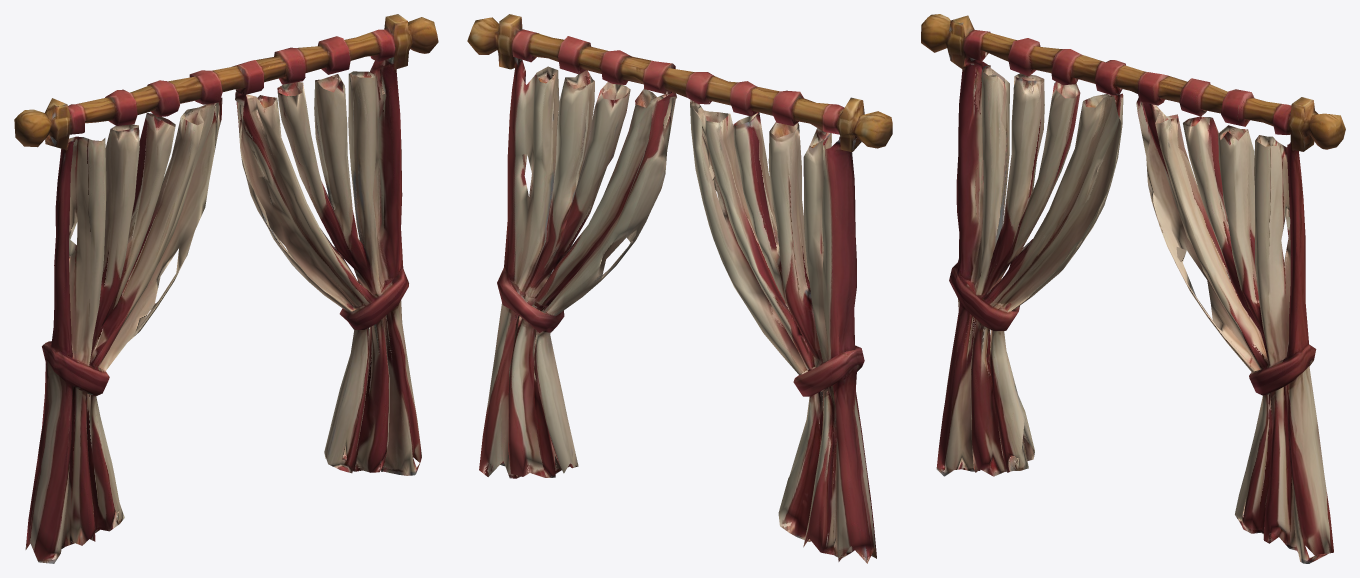
The model's file is SM_Env_Curtain.fbx.
The picture shows the model from 3 angles, left to right: view 1: azimuth 30°, elevation 25°; view 2: azimuth 150°, elevation 25°; view 3: azimuth 330°, elevation 25°; orthographic projection.
Parts seen in each view (by area): view 1: SM_Env_Curtain; view 2: SM_Env_Curtain; view 3: SM_Env_Curtain.
Boxes of the visible parts, box(x1,y1,x2,y2) form: SM_Env_Curtain: box(14, 14, 438, 563); SM_Env_Curtain: box(467, 14, 892, 563); SM_Env_Curtain: box(921, 14, 1345, 563).
Bounding box in the file's own units: 2.2 × 2.3 × 0.25.
